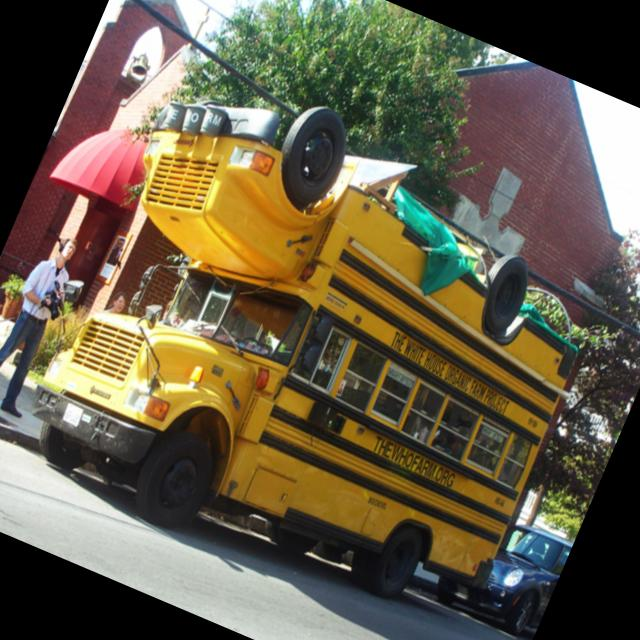bus: (4, 42, 633, 640)
